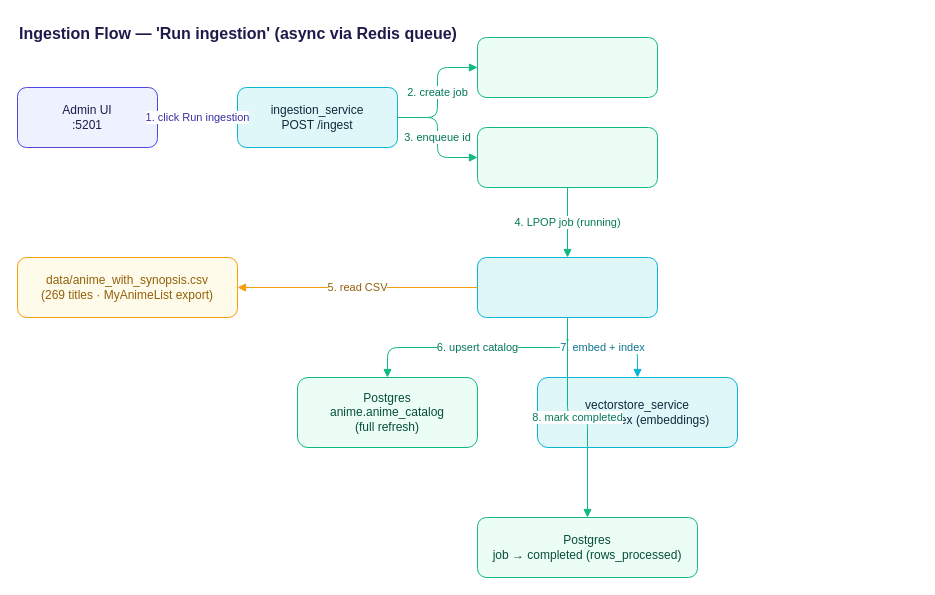
Some shapes in this 935 by 595 pixel diagram are drawn without their labels. The shapes that lost their labels are listed below. From the top down, each one's box as (x1, y1, x2, y2) in pixels, then its label:
(476, 36, 658, 98): Postgres ingestion_jobs (pending)
(476, 126, 658, 188): Redis list anime:ingestion:jobs
(476, 256, 658, 318): ingestion worker (LPOP poll loop)
